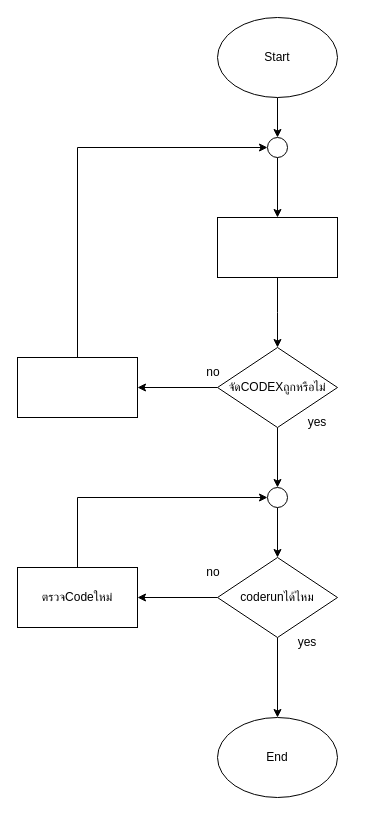
The diagram is 365 pixels wide and 815 high, and some of its shapes have lost their labels. The centre of each missing label's shape, as x and y in pixels:
จัด CODEX: [277,247]
ตรวจCodexใหม่: [77,387]
